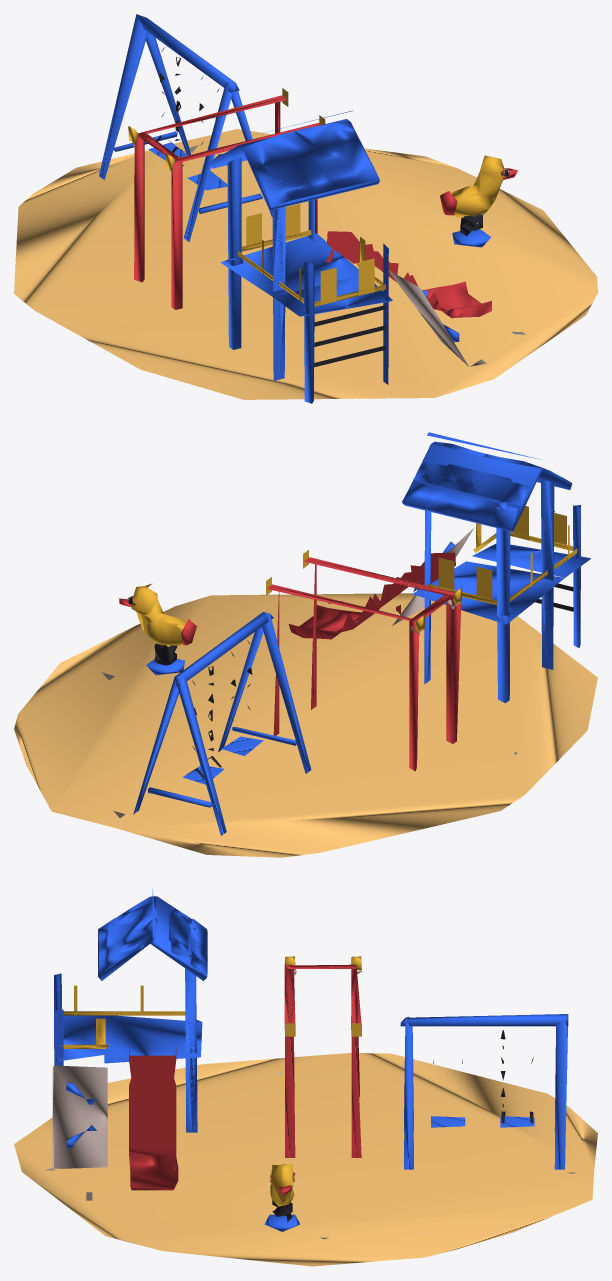
The model's file is kit.playground.lod1.glb.
The picture shows the model from 3 angles, top to bottom: view 1: azimuth 30°, elevation 25°; view 2: azimuth 150°, elevation 25°; view 3: azimuth 270°, elevation 25°; orthographic projection. The views are drawn at different scales.
Size of the model in its own units: 8.29 by 3.83 by 9.68.
